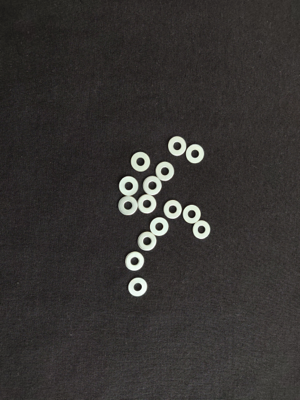circle: (124, 251, 146, 273), (163, 199, 184, 221), (191, 220, 213, 241), (182, 204, 203, 226), (149, 217, 170, 239), (137, 231, 158, 253), (128, 277, 149, 299), (155, 161, 175, 182), (143, 175, 163, 196), (120, 176, 140, 197), (118, 196, 139, 216), (137, 195, 157, 216), (131, 152, 151, 172), (186, 143, 205, 164), (168, 137, 187, 157)
